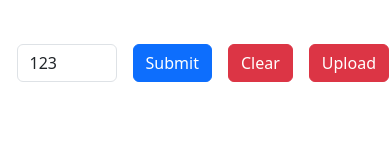
check text of new to do › input text and new to do text the same
This screenshot has width=389, height=160.
Replace the text in the field with placeholder "Enter text to do" with "Buy milk" at (67, 63), box [17,44,117,82]
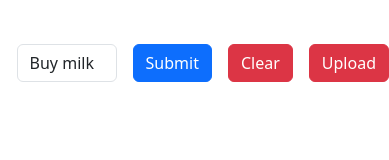
Click the button "Submit" at (172, 63), box [133,44,212,82]
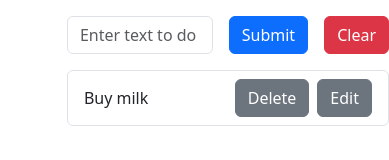
Expected: the text "Buy milk" is shown, [84,86,148,110]
